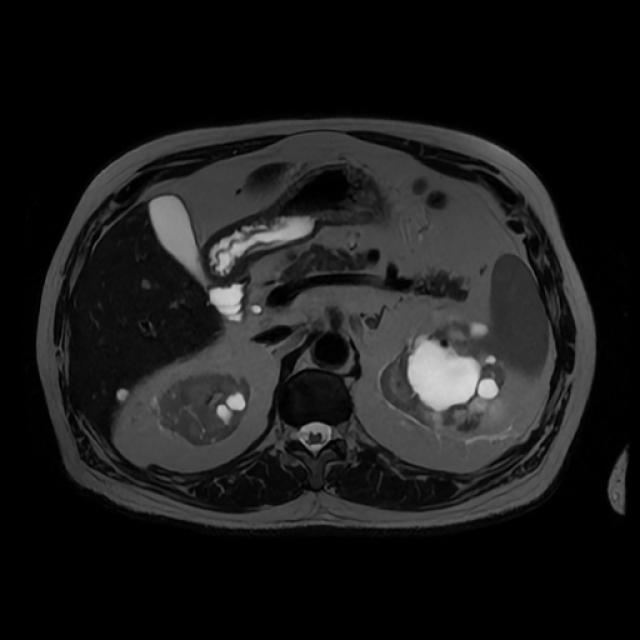sag: (150, 373, 251, 446)
sol: (377, 321, 505, 433)
